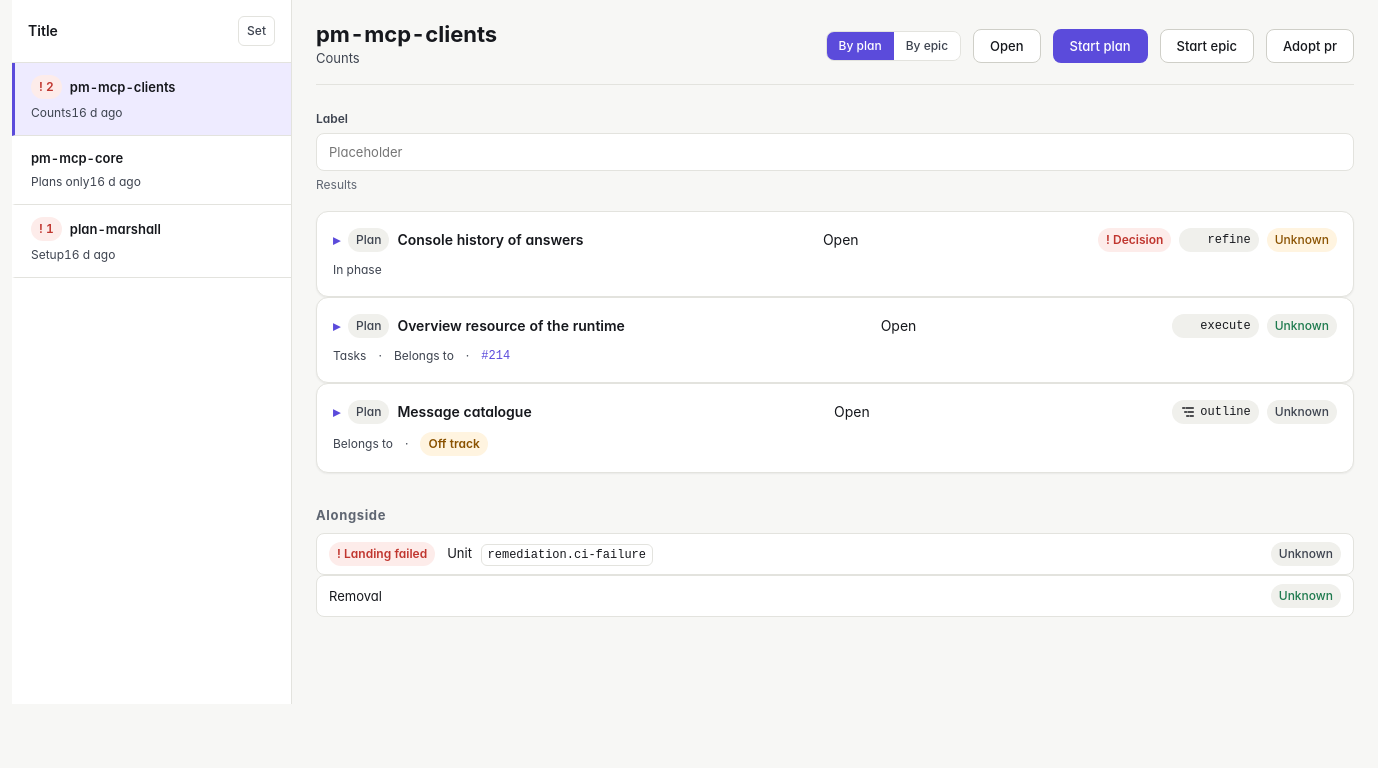
Test case: OverviewView component › filters the running plans by their epic and state
This screenshot has width=1378, height=768.
Type "client work" into the search field with test id "filter-input".
click(835, 152); type("client work")  # box [316,133,1354,171]
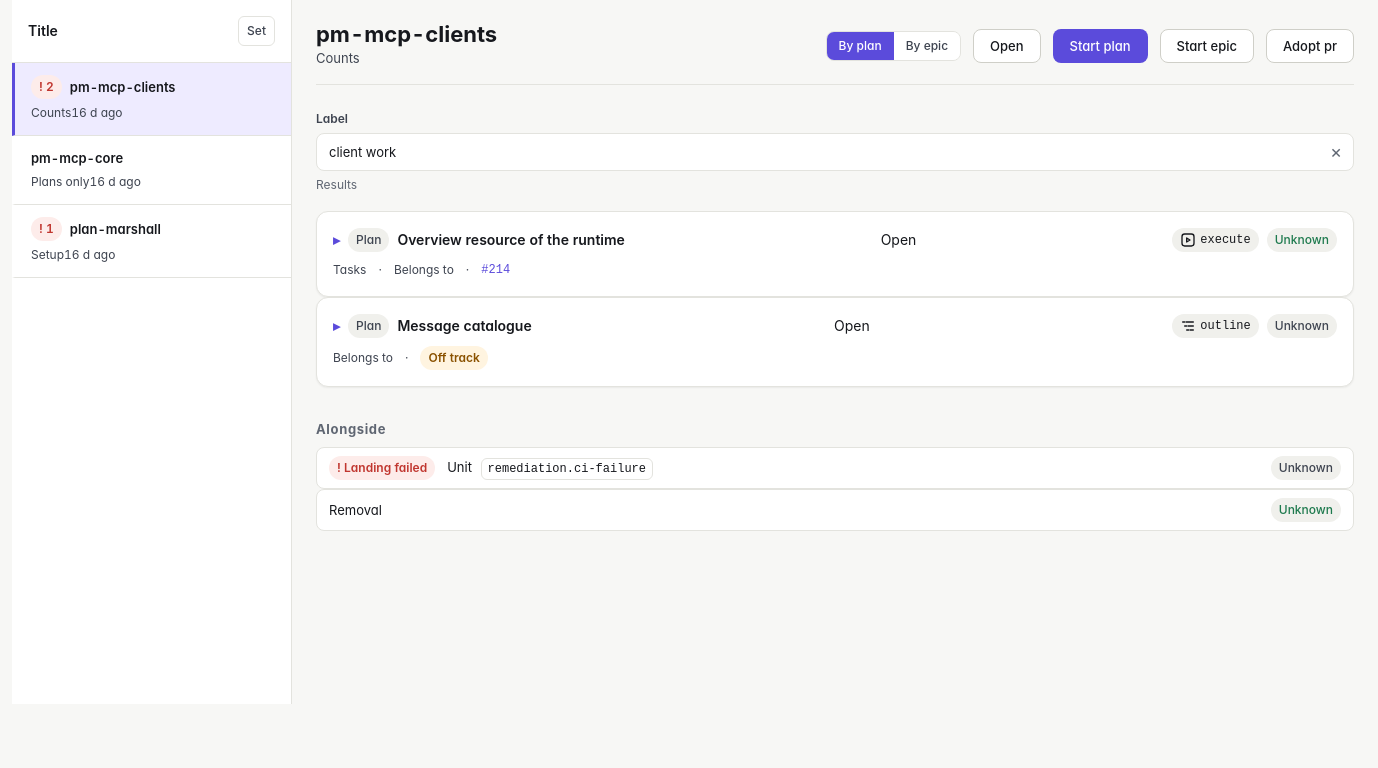
Now the button "Console history of answers" is gone
Replace the text in the search field with test id "filter-input" with "pausing" at (835, 152), box [316,133,1354,171]
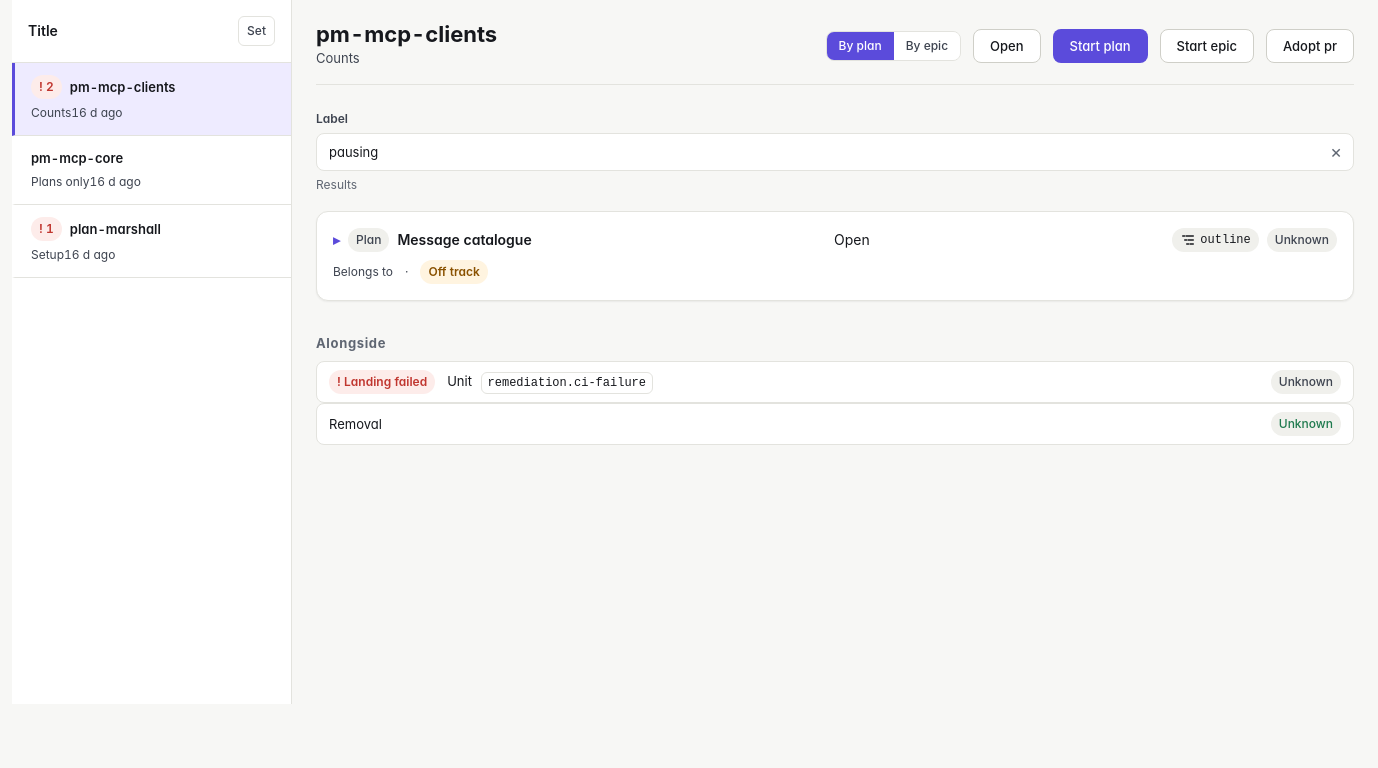
Now the button "Message catalogue" is shown, box [397,230,532,250]
